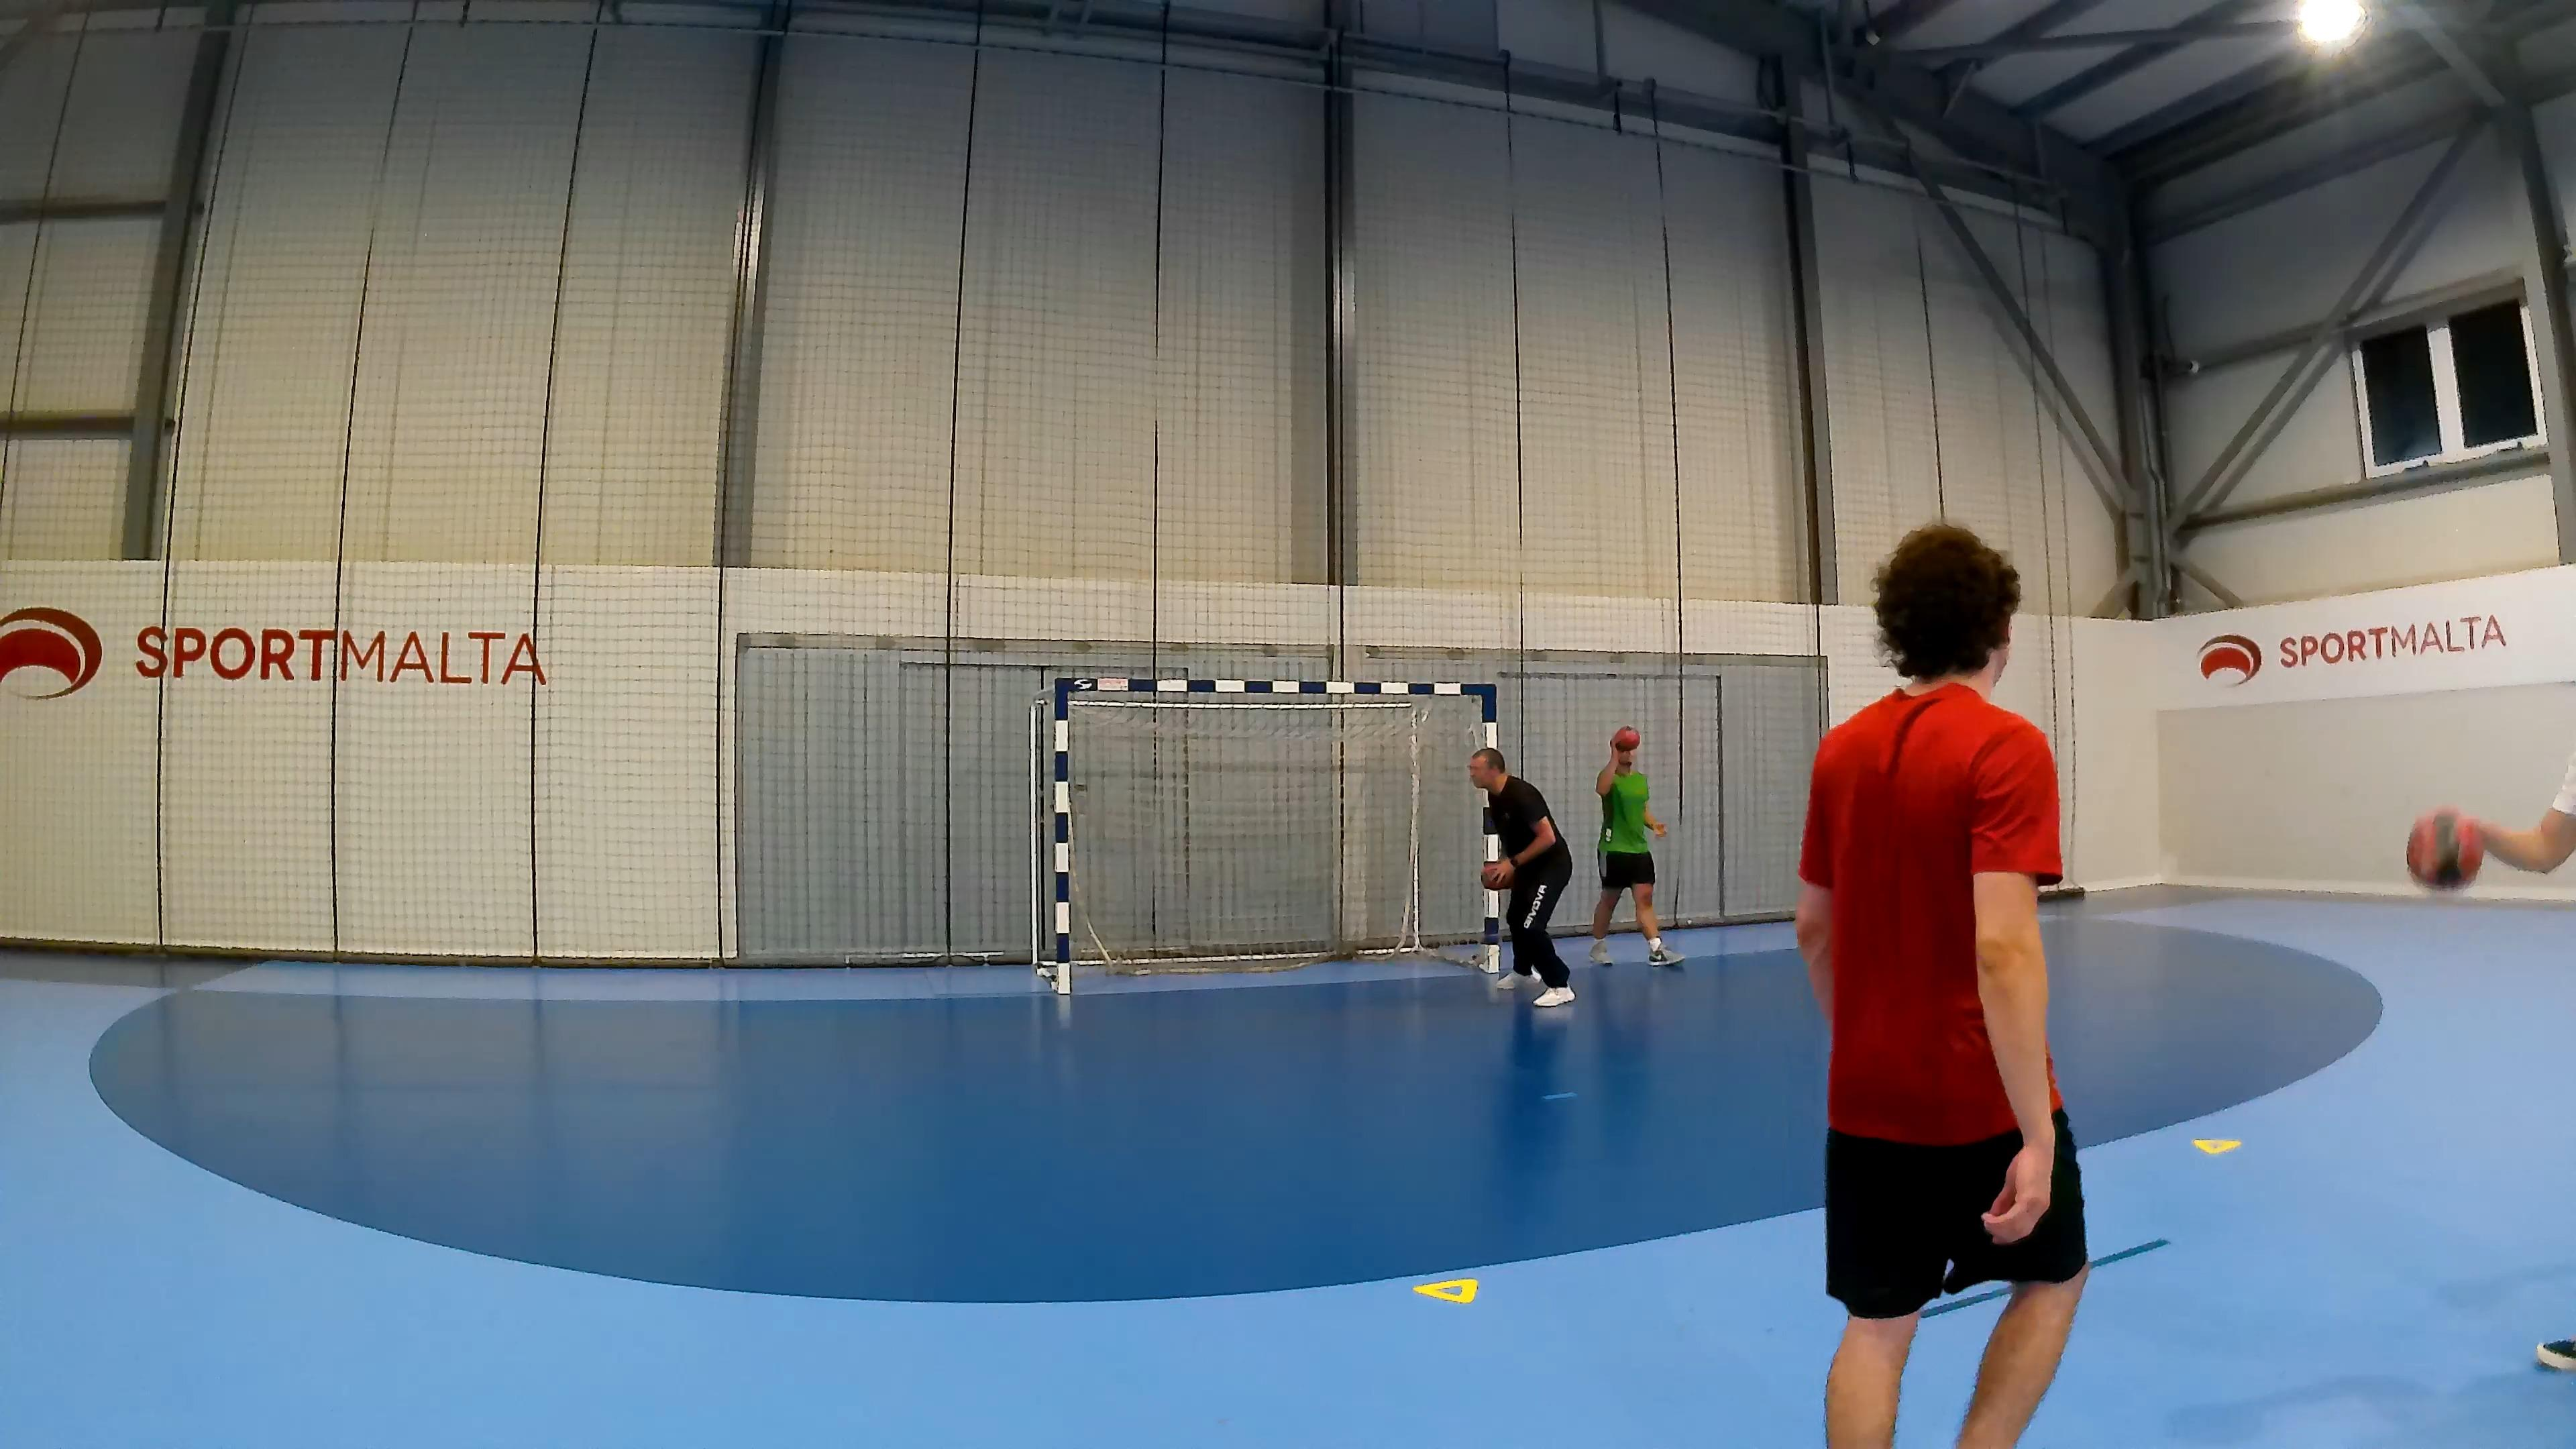handball: (2404, 807, 2484, 890), (1615, 718, 1644, 747)
